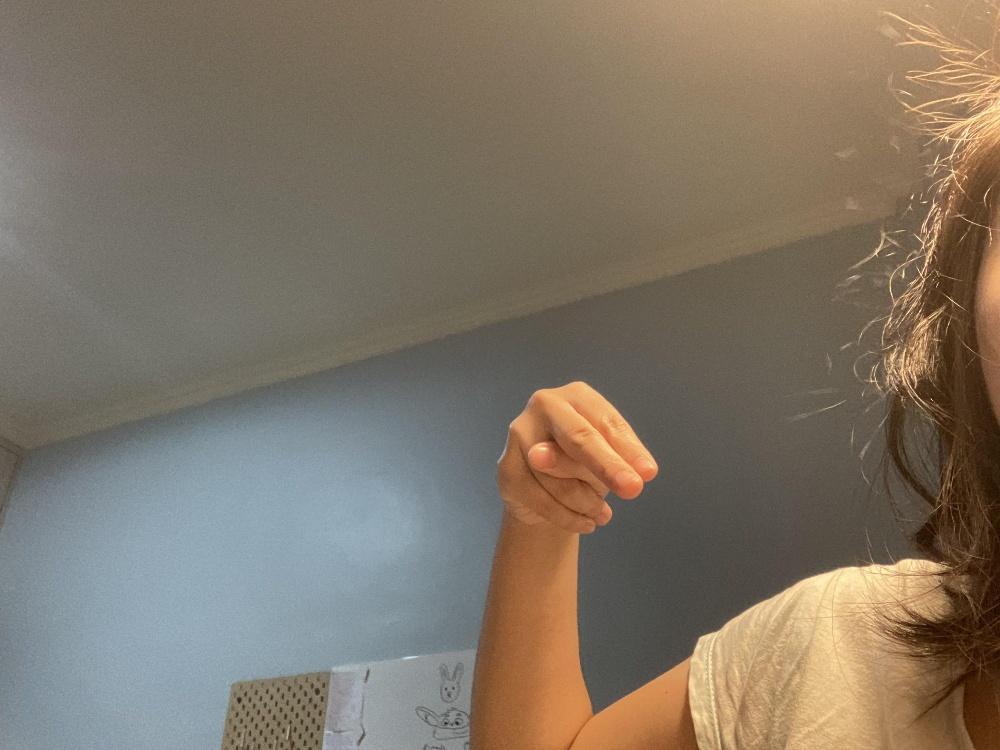n: (496, 379, 658, 533)
